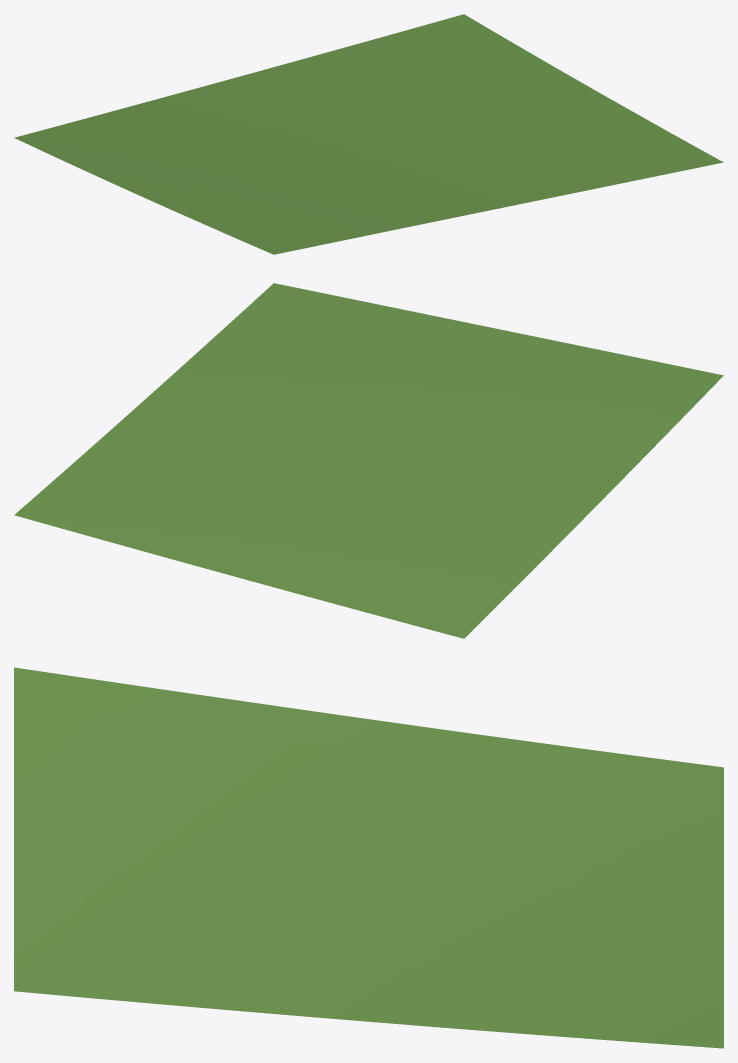
The model's file is terrain-16-14.gltf.
3 renders of one model, top to bottom at view 1: azimuth 30°, elevation 25°; view 2: azimuth 150°, elevation 25°; view 3: azimuth 270°, elevation 25°, orthographic. The views are drawn at different scales.
Bounding box in the file's own units: 50 × 7.77 × 50.
